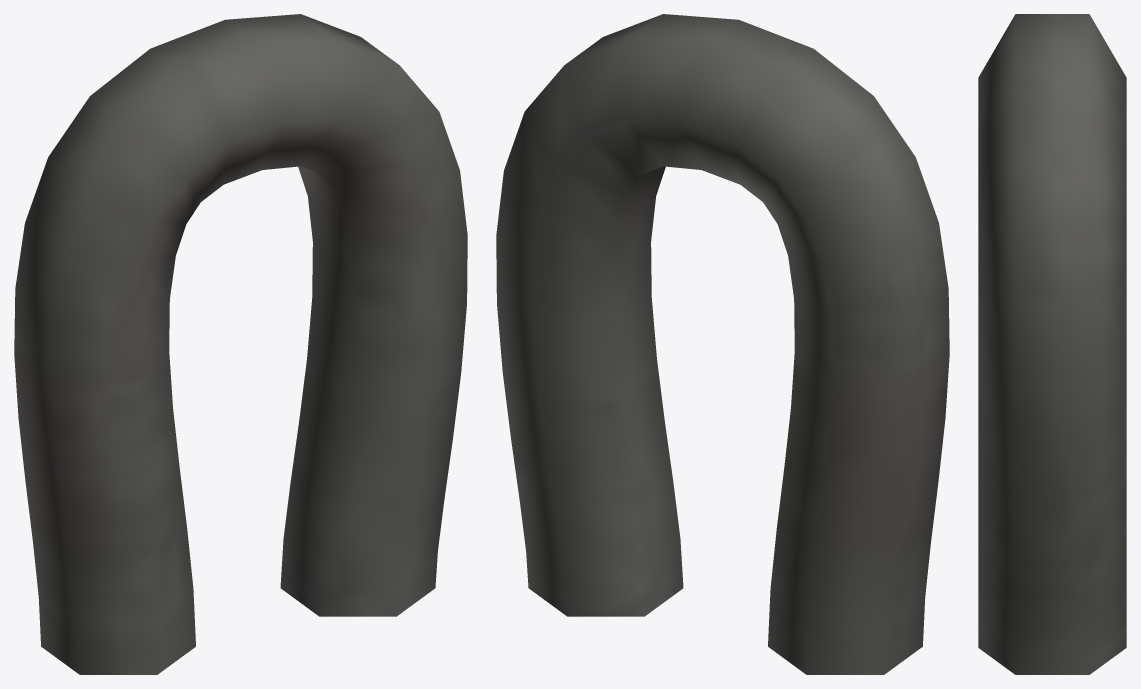
File: cable_double_uturn.gltf
The picture shows the model from 3 angles, left to right: view 1: azimuth 30°, elevation 25°; view 2: azimuth 150°, elevation 25°; view 3: azimuth 270°, elevation 25°; orthographic projection. The views are drawn at different scales.
Parts seen in each view (by area): view 1: cable_double_uturn; view 2: cable_double_uturn; view 3: cable_double_uturn.
Boxes of the visible parts, <box> form: cable_double_uturn: <box>14,14,467,674</box>; cable_double_uturn: <box>496,14,949,674</box>; cable_double_uturn: <box>978,14,1126,674</box>.
Size of the model in its own units: 0.0346 by 0.0465 by 0.0112.
1 material, 1 textured.
